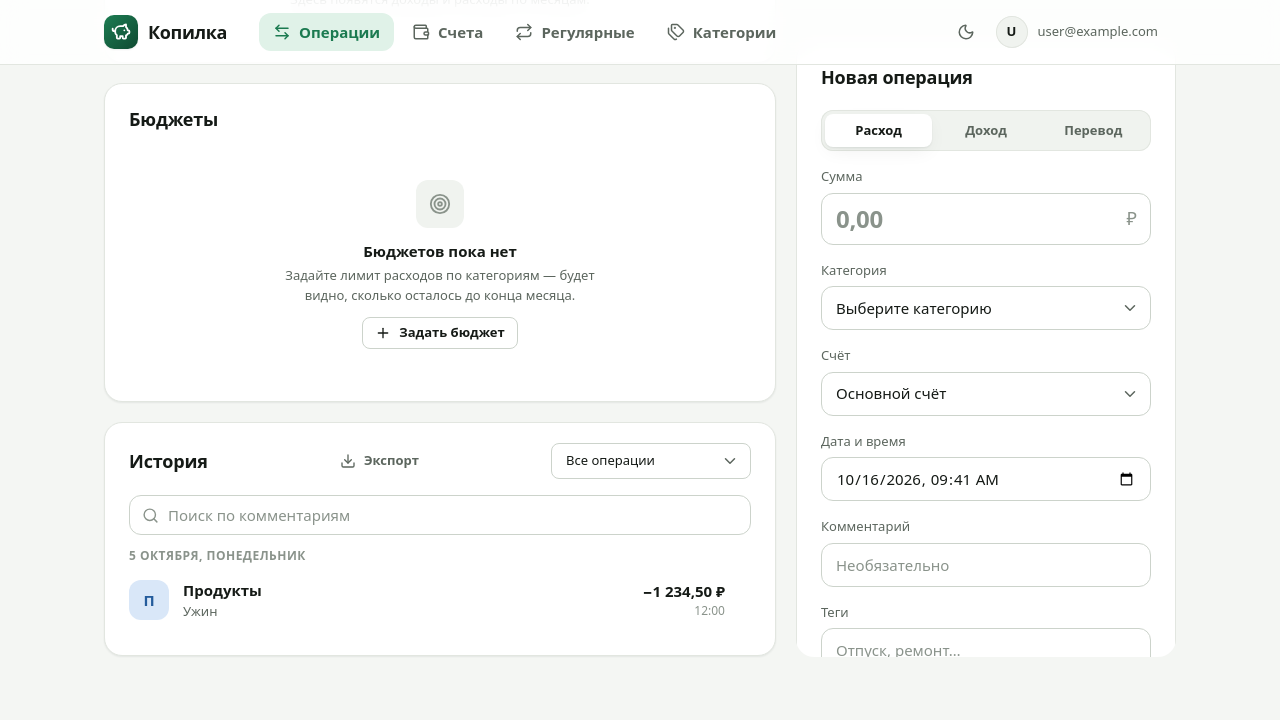
Test case: TransactionList › edits a transaction in a dialog opened from its row
The width and height of the screenshot is (1280, 720).
(page scrolled)
Click the text "Ужин" at (200, 610), box [183,602,218,620]
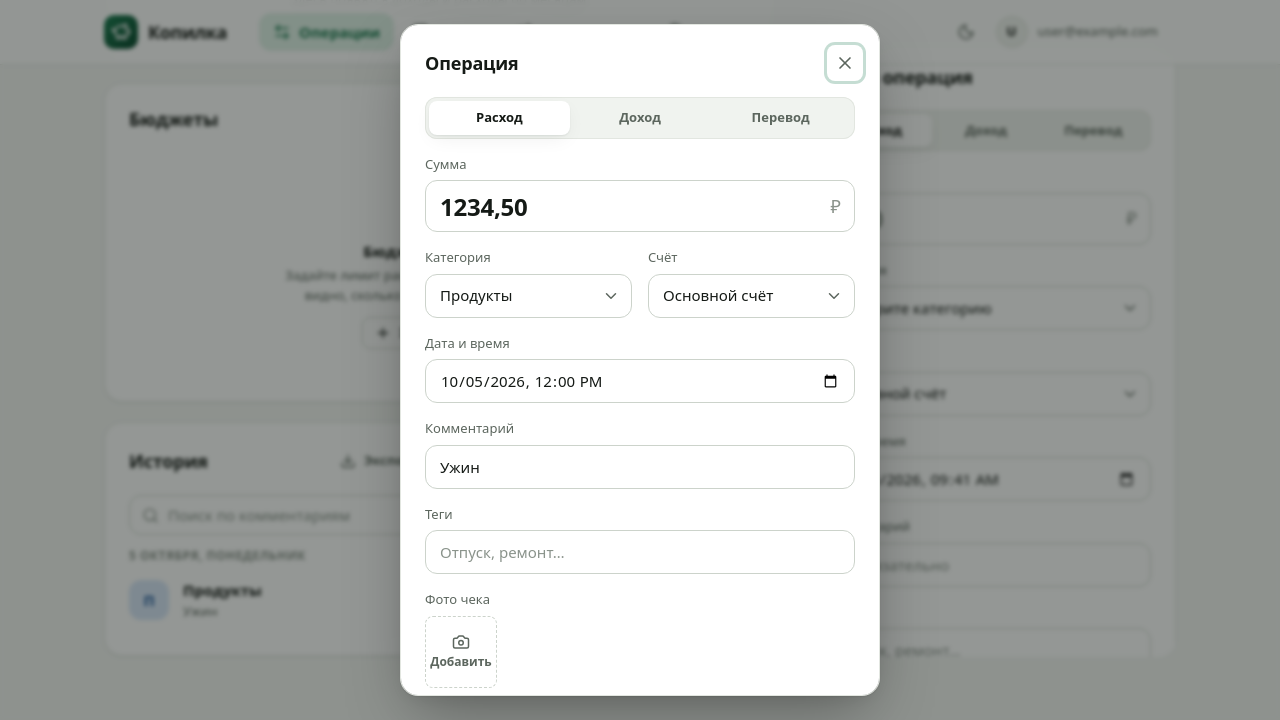
Check: the field labelled "Сумма" holds "1234,50"
Check: the dropdown labelled "Категория" shows "Продукты", box [425,274,632,318]
Replace the text in the field labelled "Сумма" with "99" at (640, 206), box [425,180,855,232]
(page scrolled)
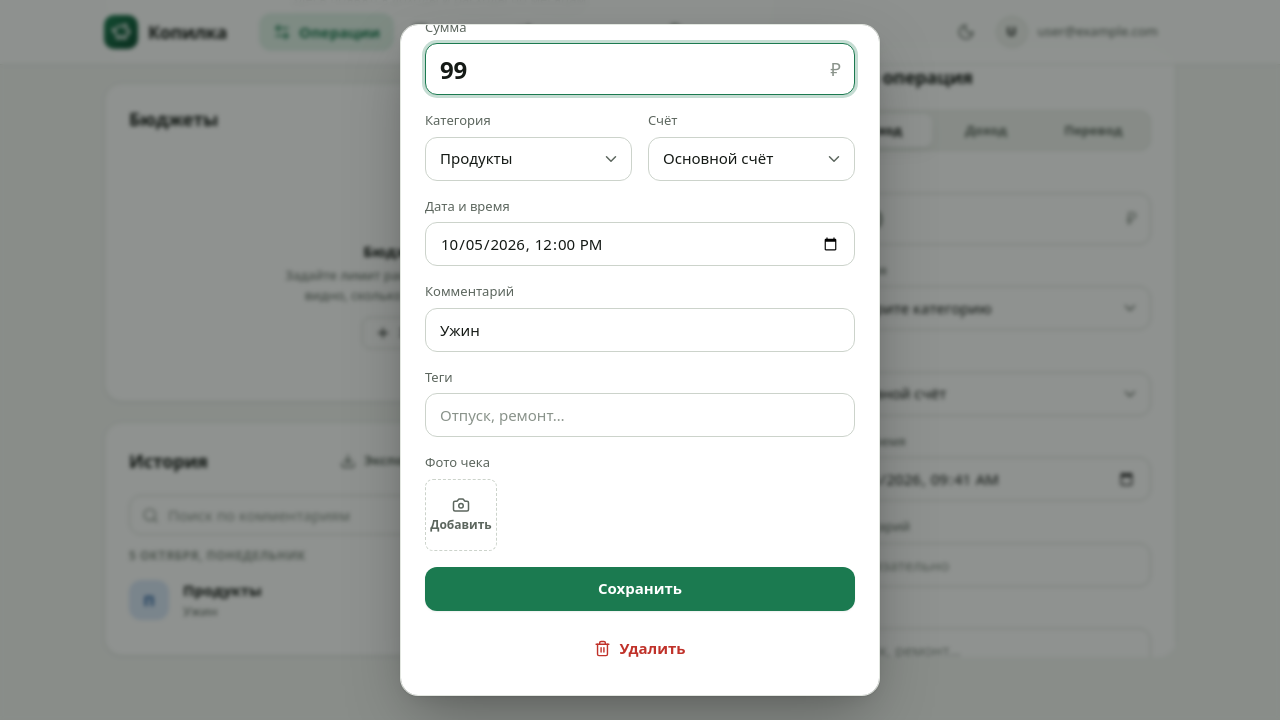
Click the button "Сохранить" at (640, 588), box [425,566,855,610]
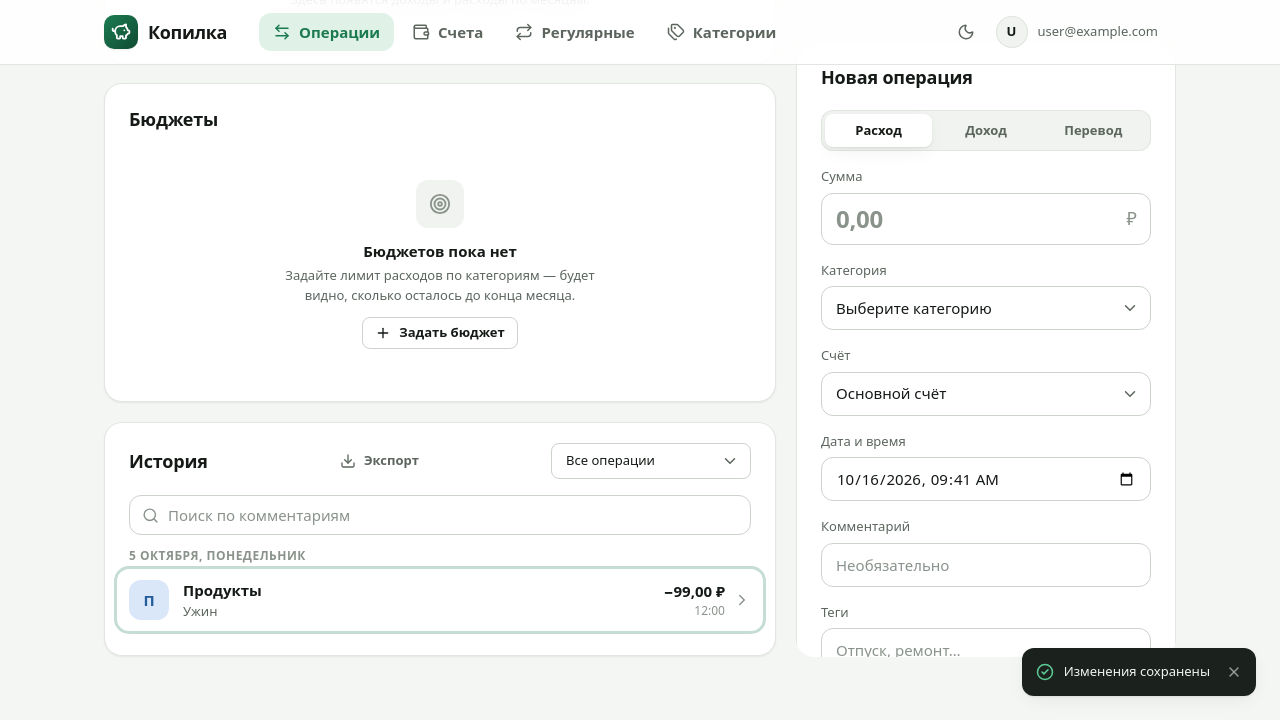
Check: the text "−99,00 ₽" is shown, box [664,580,725,602]
Check: the dialog is gone
Check: the text "Изменения сохранены" is shown, box [1064,662,1210,682]
